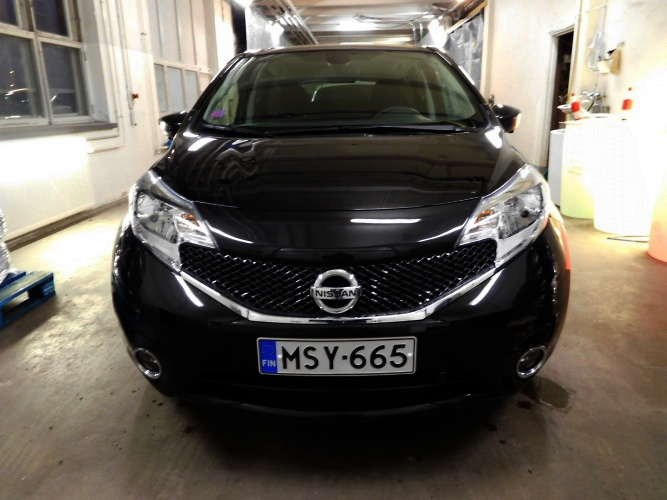license: (256, 338, 412, 376)
